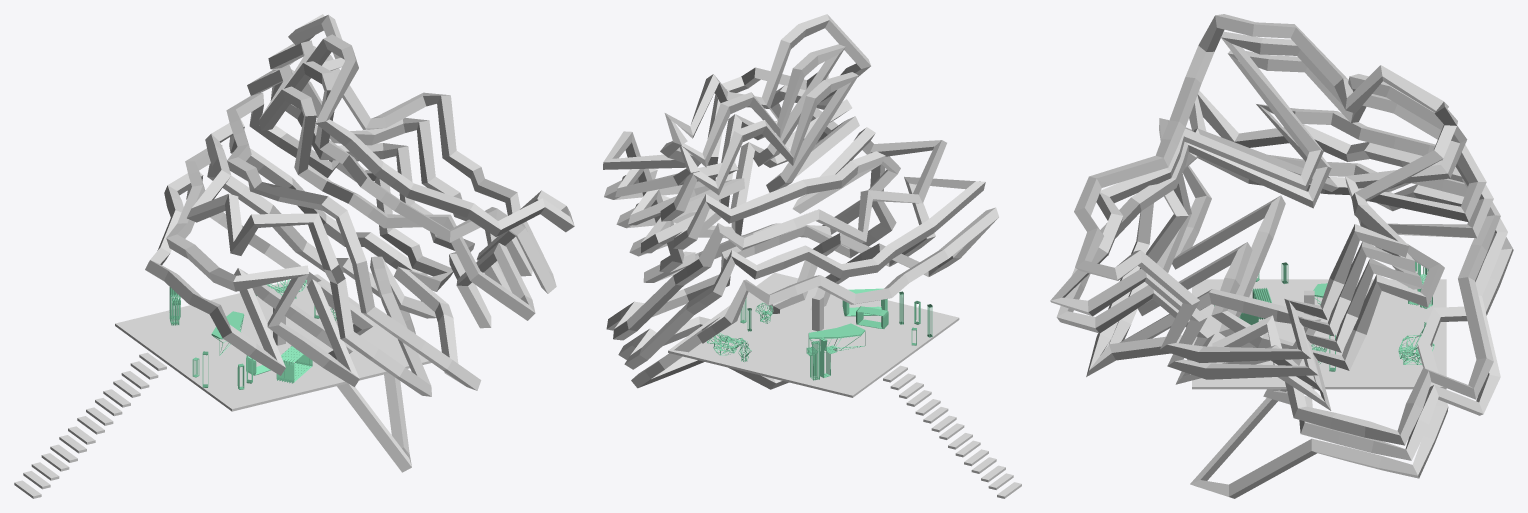
The model's file is СценаЧастями.fbx.
3 renders of one model, left to right at view 1: azimuth 30°, elevation 25°; view 2: azimuth 150°, elevation 25°; view 3: azimuth 270°, elevation 25°, orthographic. The views are drawn at different scales.
Visible parts, largest first — view 1: Cube.041, Cube.033, Cube.067; view 2: Cube.041, Cube.033, Plane.002, Cube.066, Sofa.001; view 3: Cube.041, Cube.033.
Boxes of the visible parts, x1=… form: Cube.041: x1=145, y1=14, x2=574, y2=472; Cube.033: x1=14, y1=274, x2=431, y2=498; Cube.067: x1=276, y1=346, x2=312, y2=383; Cube.041: x1=603, y1=14, x2=998, y2=389; Cube.033: x1=668, y1=272, x2=1021, y2=498; Plane.002: x1=808, y1=323, x2=865, y2=352; Cube.066: x1=856, y1=306, x2=888, y2=328; Sofa.001: x1=707, y1=333, x2=745, y2=355; Cube.041: x1=1050, y1=14, x2=1513, y2=498; Cube.033: x1=1192, y1=279, x2=1446, y2=389.
Bounding box in the file's own units: 2169 × 1847 × 1704.
